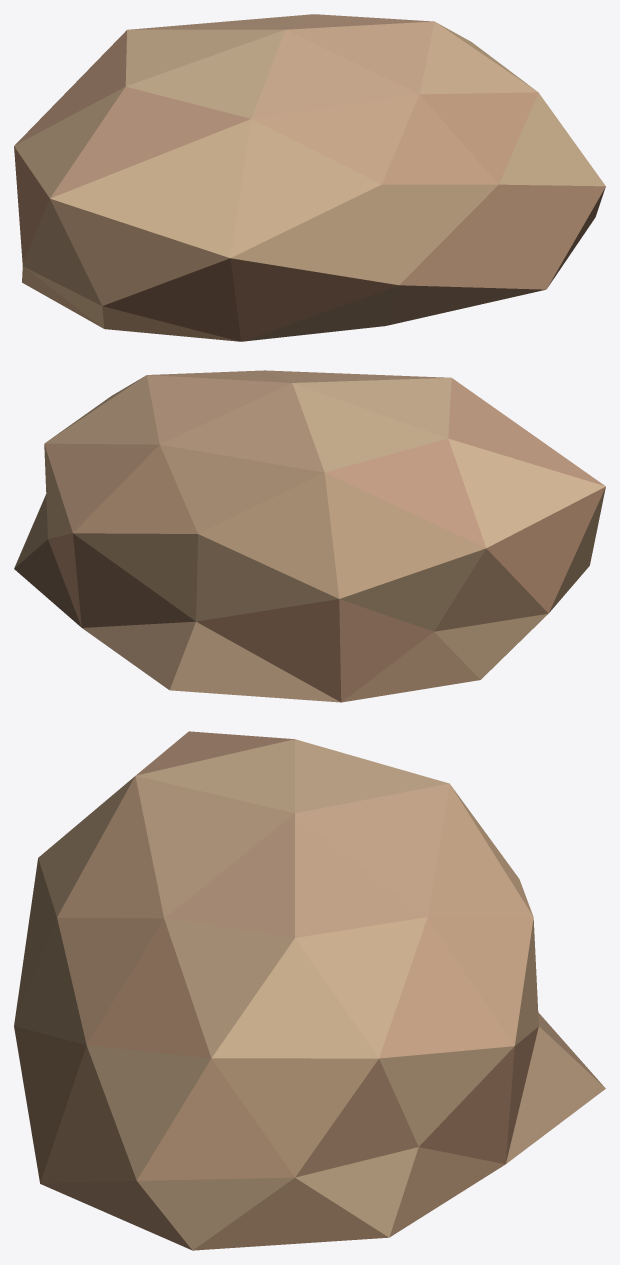
File: pebble_1.glb
3 views of the same model, one above another, from view 1: azimuth 30°, elevation 25°; view 2: azimuth 150°, elevation 25°; view 3: azimuth 270°, elevation 25° (orthographic). The views are drawn at different scales.
Parts seen in each view (by area): view 1: rock; view 2: rock; view 3: rock.
Boxes of the visible parts, x1,y1,x2,y2 form: rock: (14,14,605,341); rock: (14,370,605,702); rock: (14,731,605,1250).
Bounding box in the file's own units: 0.45 × 0.1753 × 0.3414.
